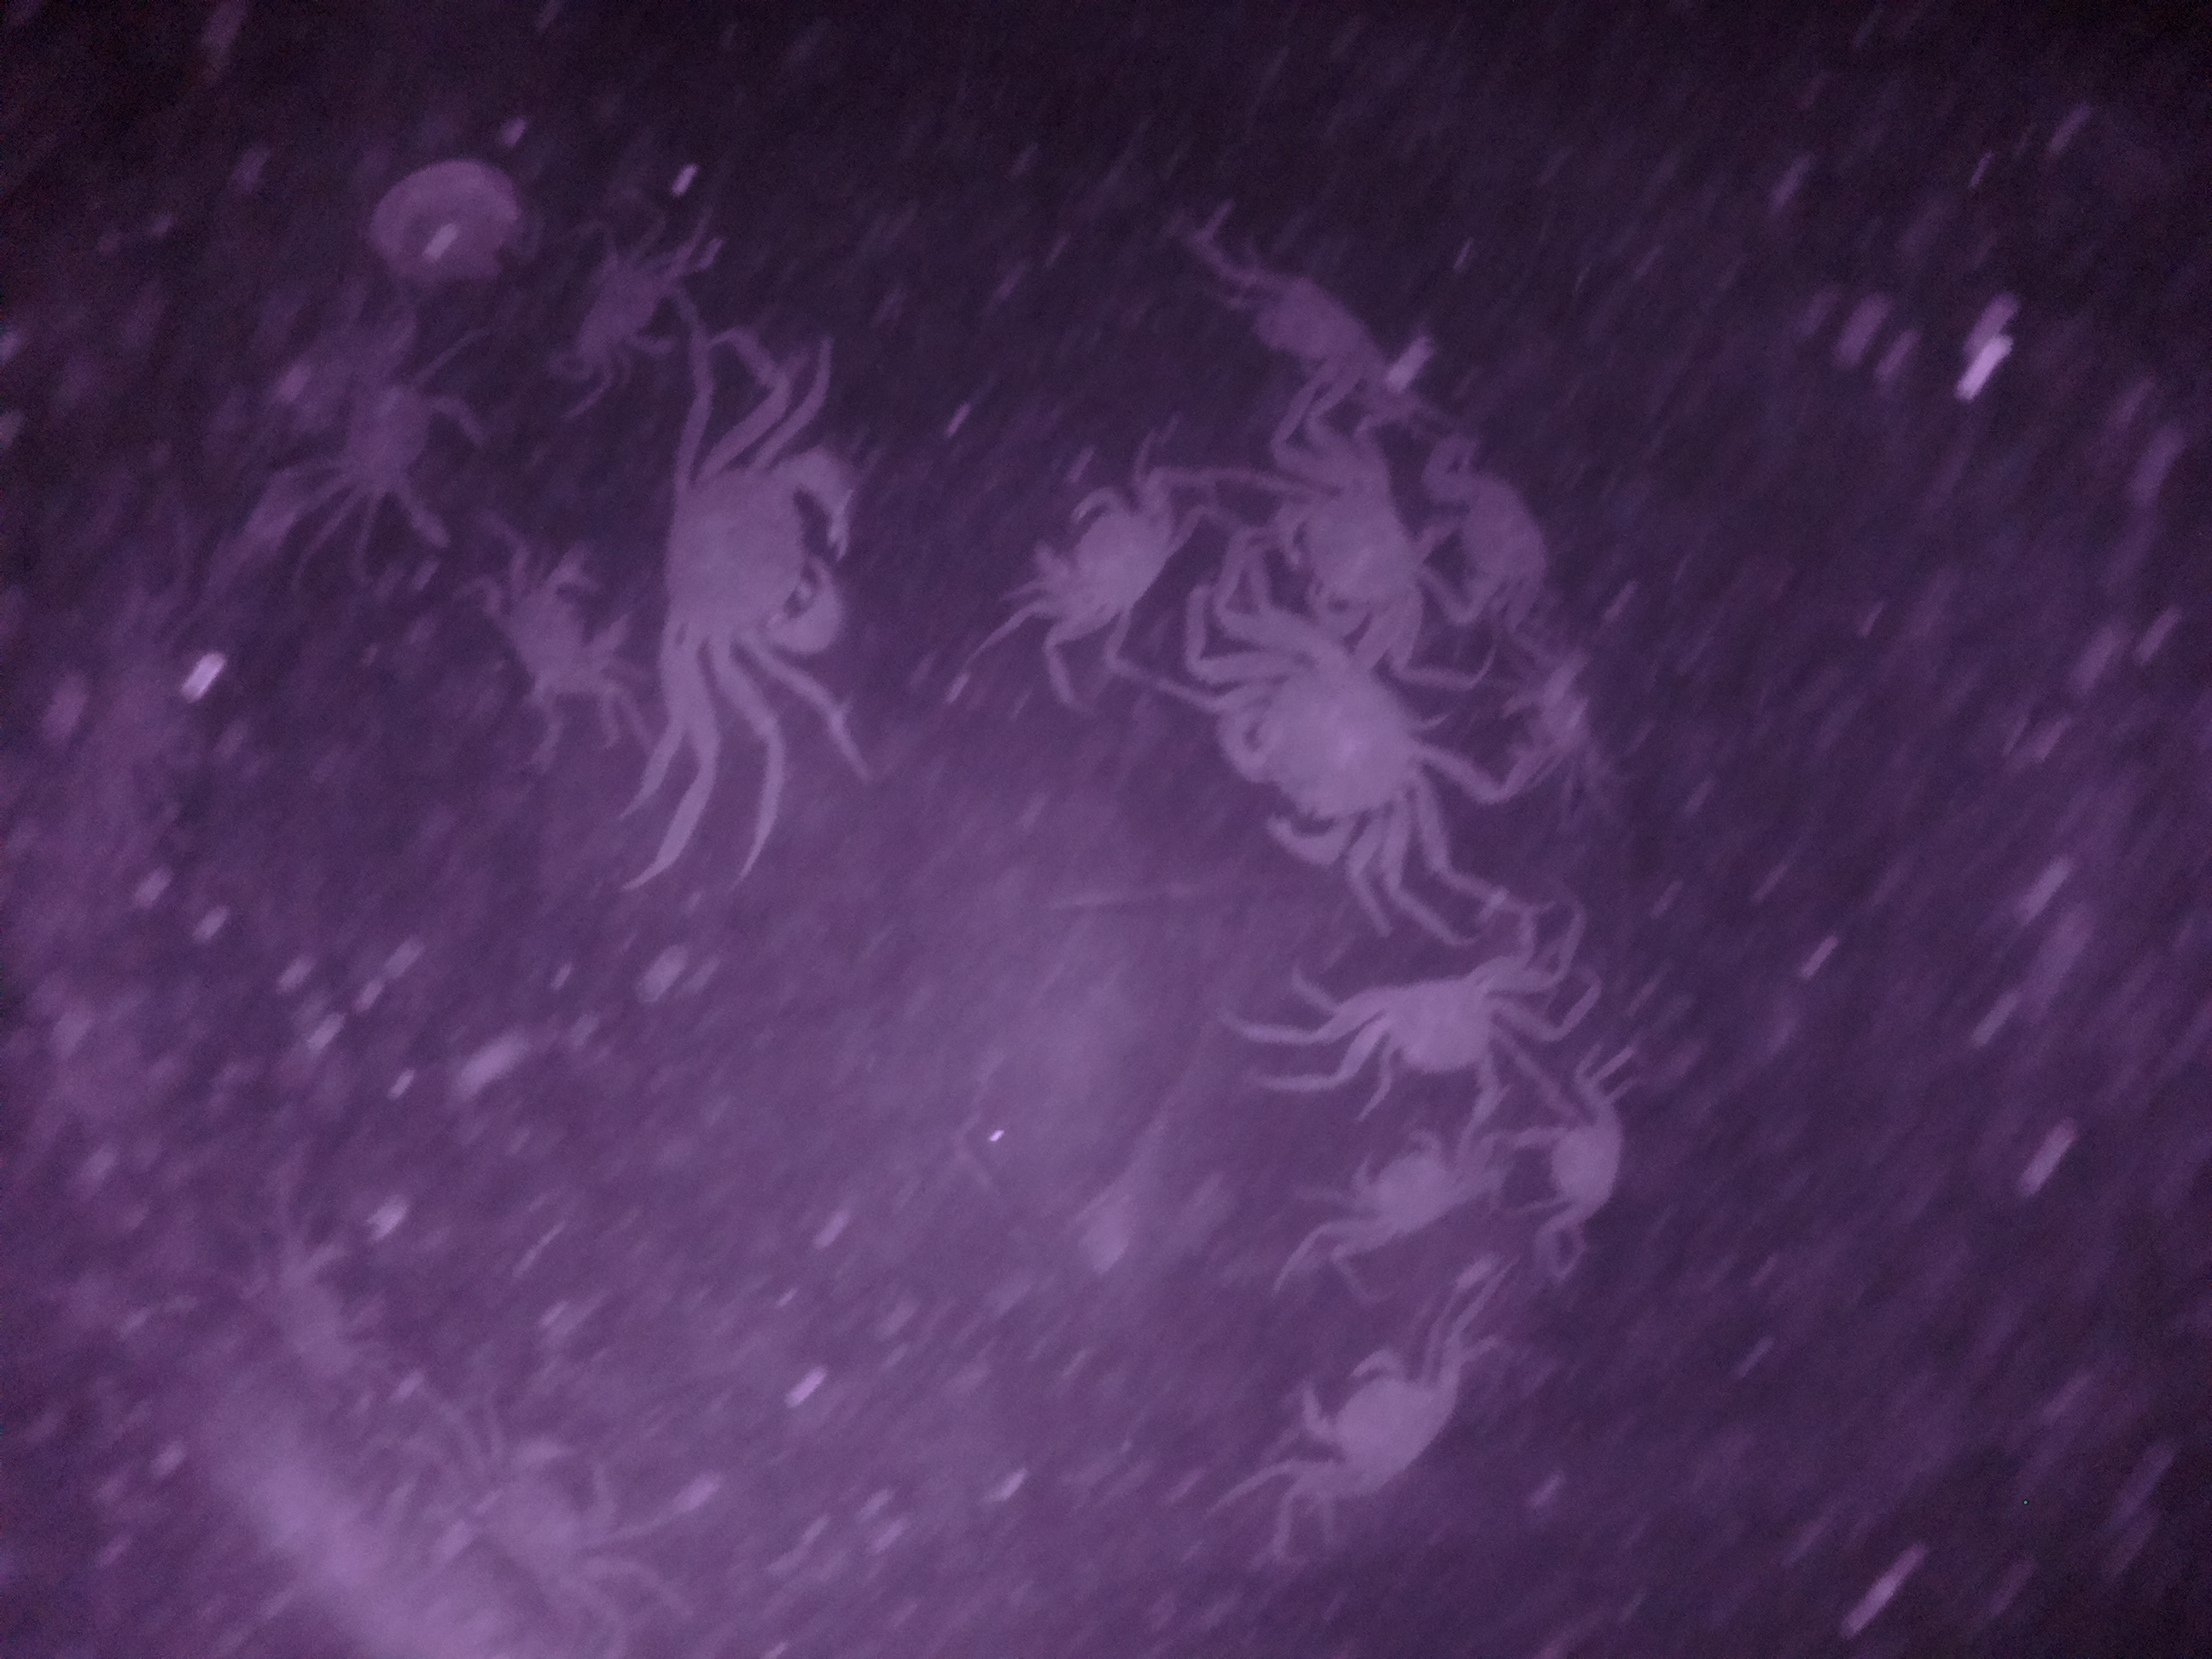Crab: (641, 416, 885, 674), (1014, 446, 1184, 660), (1312, 953, 1521, 1110)
